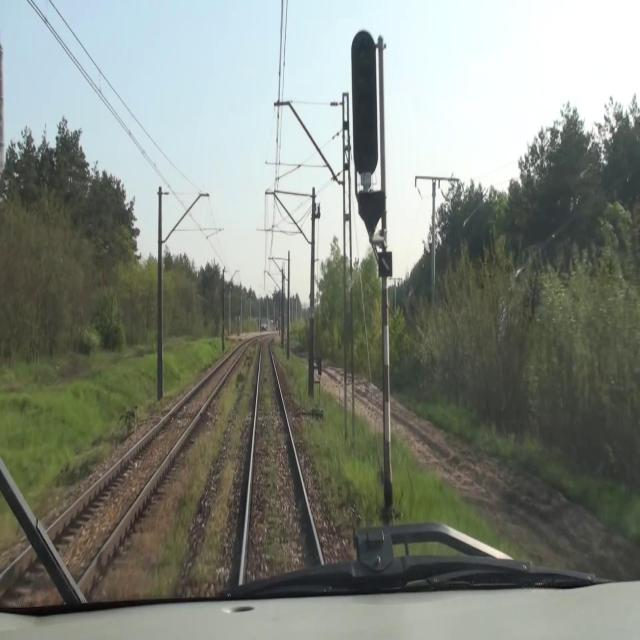rail-track: (0, 345, 243, 607), (242, 338, 320, 586)
